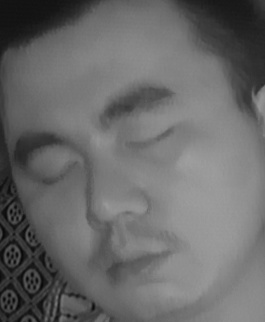blink: (124, 123, 183, 158), (31, 156, 82, 190)
mouth: (94, 233, 173, 288)
